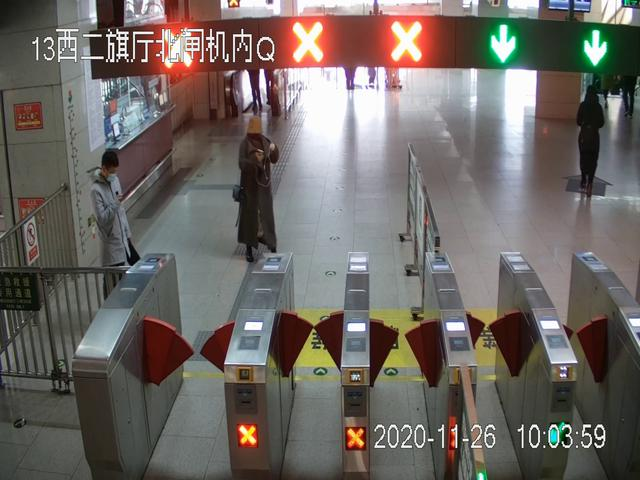person: (92, 149, 141, 303), (235, 115, 279, 263), (577, 86, 606, 196)
